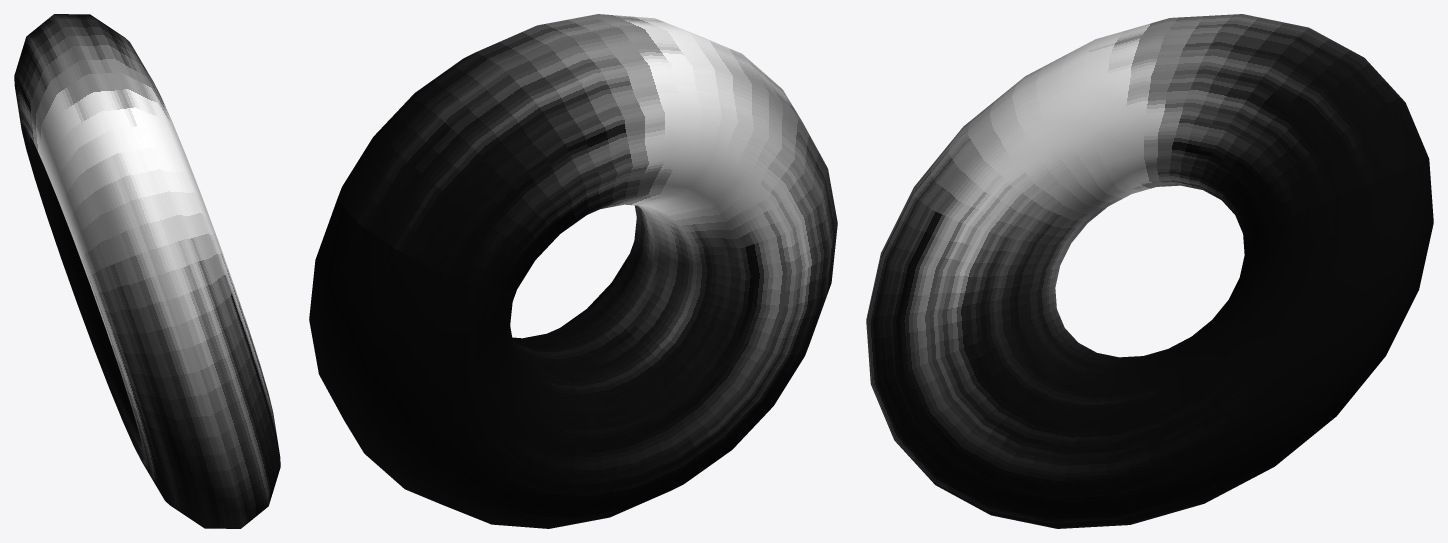
The model's file is Punch.obj.
The picture shows the model from 3 angles, left to right: view 1: azimuth 30°, elevation 25°; view 2: azimuth 150°, elevation 25°; view 3: azimuth 270°, elevation 25°; orthographic projection. The views are drawn at different scales.
Parts seen in each view (by area): view 1: polygon0; view 2: polygon0; view 3: polygon0.
Boxes of the visible parts, x1,y1,x2,y2 form: polygon0: (14, 14, 280, 528); polygon0: (309, 14, 837, 528); polygon0: (866, 14, 1433, 528).
Size of the model in its own units: 5.45 by 10.18 by 11.01.
1 material, 1 textured.
